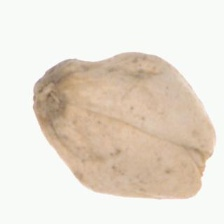L1: (187, 133, 216, 197), (32, 68, 65, 120)
L2: (34, 52, 216, 199)
